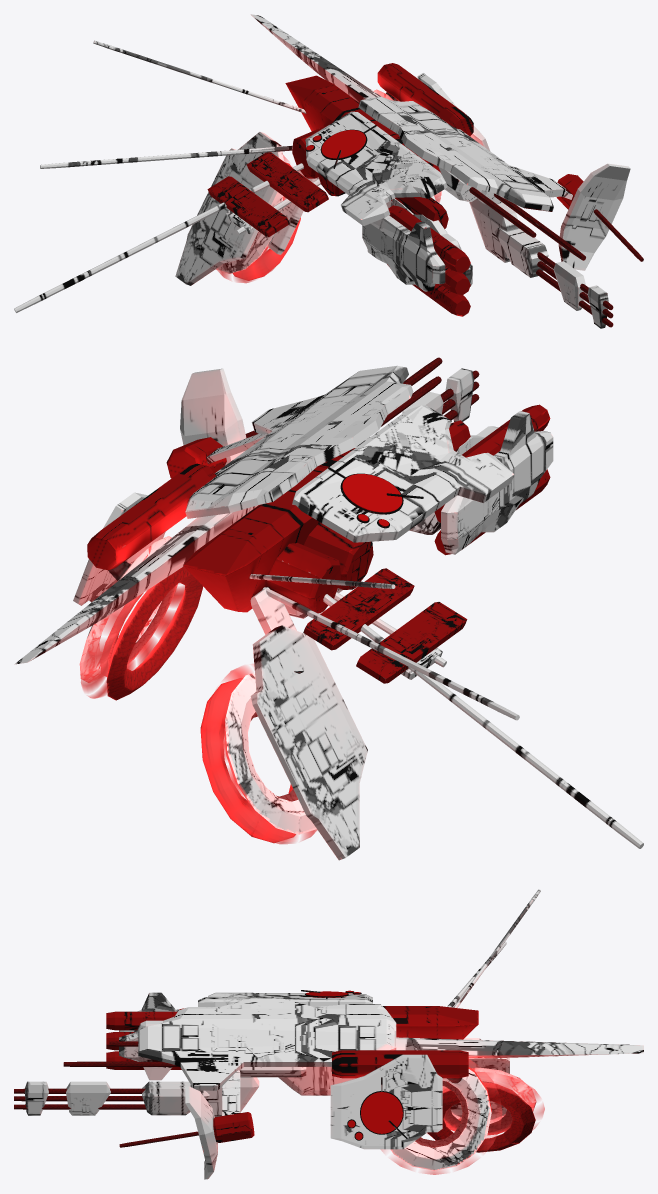
File: sting.gltf
3 renders of one model, top to bottom at view 1: azimuth 30°, elevation 25°; view 2: azimuth 150°, elevation 25°; view 3: azimuth 270°, elevation 25°, orthographic. The views are drawn at different scales.
Parts seen in each view (by area): view 1: base_glow, glow; view 2: base_glow, glow; view 3: base_glow, glow.
Part boxes in pixels (x1,y1,x2,y2): base_glow: [14, 14, 643, 328]; glow: [217, 155, 440, 283]; base_glow: [14, 357, 643, 860]; glow: [81, 583, 317, 844]; base_glow: [14, 889, 643, 1179]; glow: [381, 1059, 544, 1174].
Bounding box in the file's own units: 7.32 × 3.49 × 9.24.
2 materials, 2 textured.
